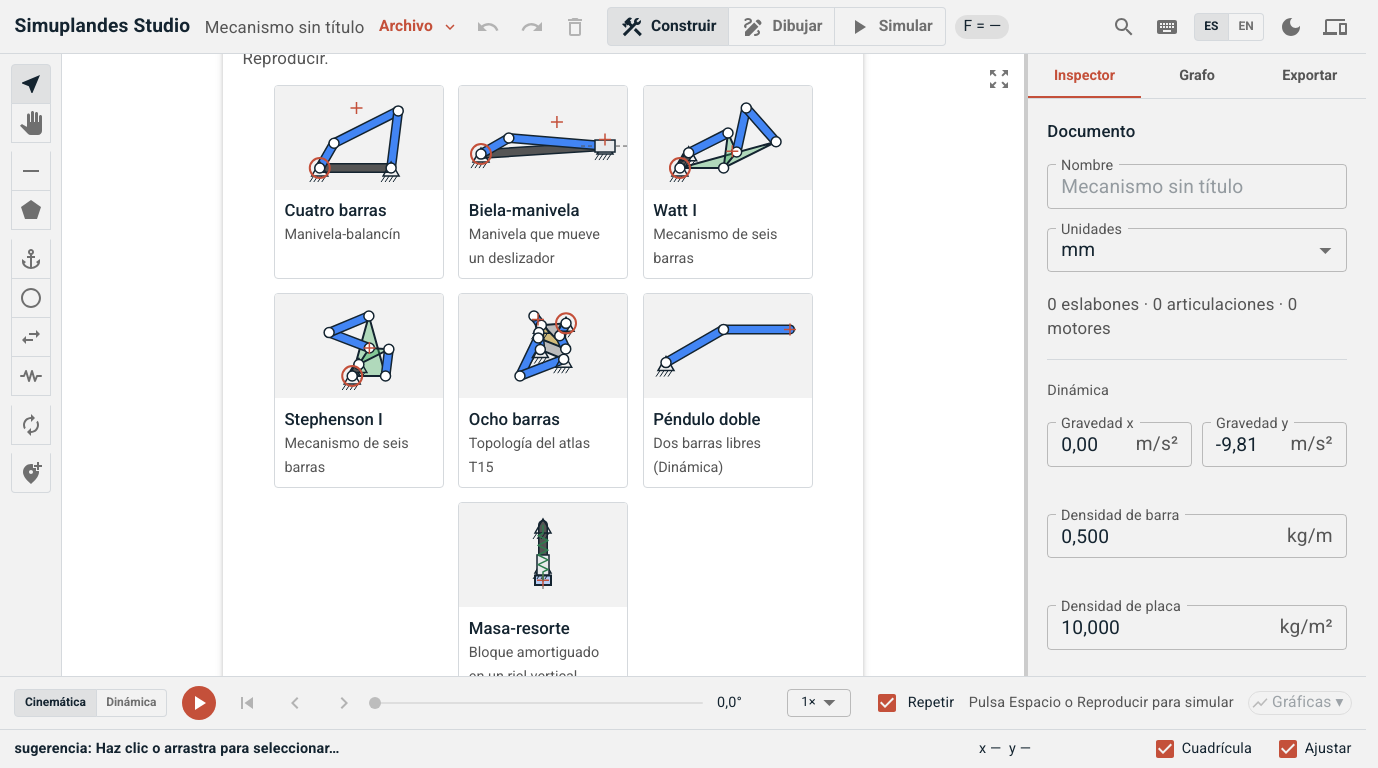
StudioShell tool selection › clicking the Bar rail button sets activeTool and shows aria-pressed + the bar hint
This screenshot has width=1378, height=768.
Click the button named "Barra (L)" at (31, 171), box [11,151,51,191]
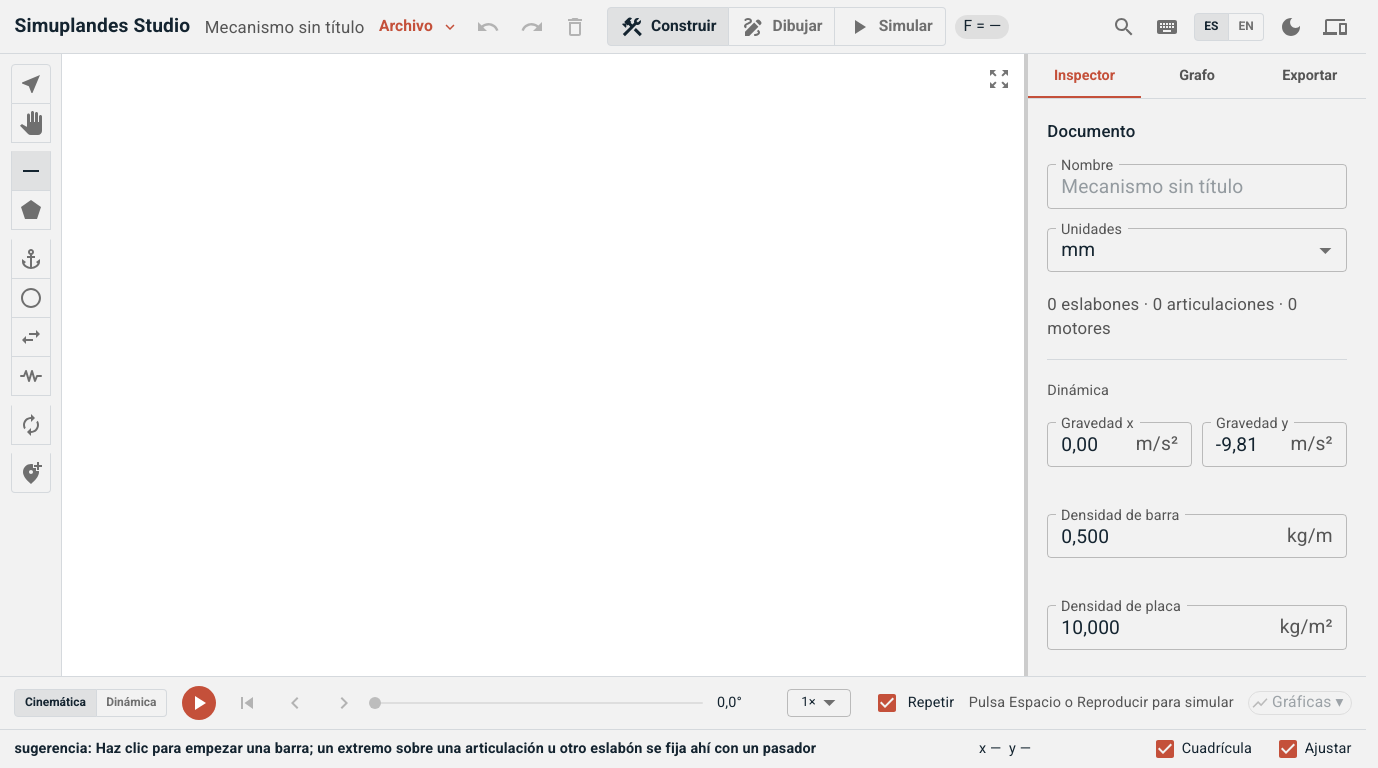
Expected: the footer shows "Haz clic para empezar una barra", [96,740,816,757]
